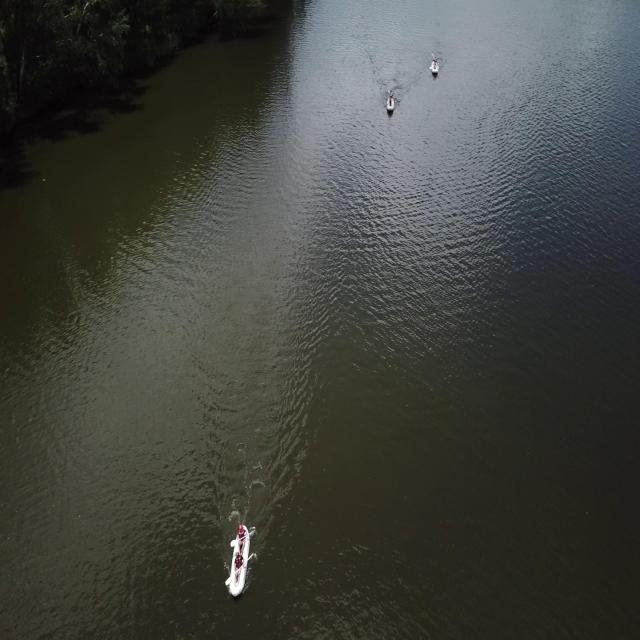kayak: (224, 523, 258, 598), (385, 89, 396, 113), (428, 52, 439, 75)
